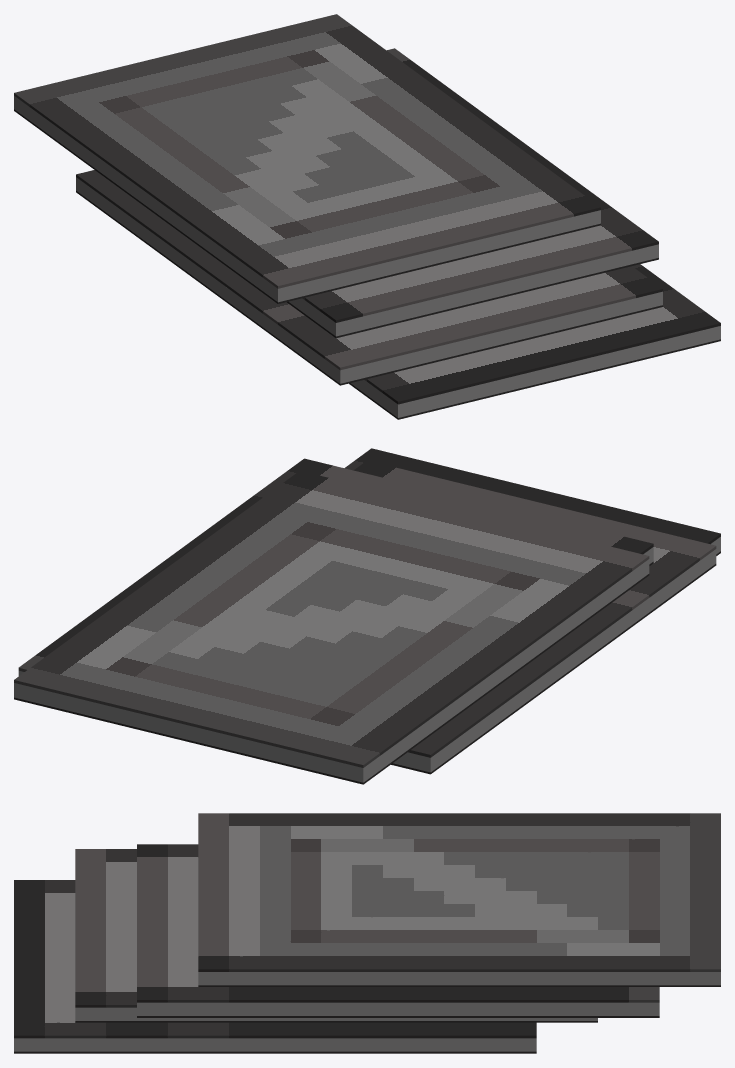
File: CMU3DCMSheetMetal.glb
The picture shows the model from 3 angles, top to bottom: view 1: azimuth 30°, elevation 25°; view 2: azimuth 150°, elevation 25°; view 3: azimuth 270°, elevation 25°; orthographic projection. The views are drawn at different scales.
Parts seen in each view (by area): view 1: sheet 4 original upper surface, sheet 2 original upper surface, sheet 3 original upper surface, sheet 1 original upper surface, sheet 4 solid material, sheet 2 solid material, sheet 3 solid material, sheet 1 solid material, sheet 2 dark lower edge, sheet 4 dark lower edge, sheet 1 dark lower edge, sheet 3 dark lower edge; view 2: sheet 4 original upper surface, sheet 2 original upper surface, sheet 4 solid material, sheet 3 original upper surface, sheet 1 original upper surface, sheet 2 solid material, sheet 4 dark lower edge, sheet 2 dark lower edge; view 3: sheet 4 original upper surface, sheet 1 original upper surface, sheet 3 original upper surface, sheet 2 original upper surface, sheet 1 solid material, sheet 3 solid material, sheet 4 solid material, sheet 2 solid material, sheet 1 dark lower edge, sheet 2 dark lower edge, sheet 3 dark lower edge, sheet 4 dark lower edge.
Boxes of the visible parts, x1,y1,x2,y2 form: sheet 4 original upper surface: (14, 14, 600, 288); sheet 2 original upper surface: (76, 170, 662, 370); sheet 3 original upper surface: (302, 48, 658, 322); sheet 1 original upper surface: (364, 264, 720, 404); sheet 4 solid material: (14, 96, 600, 302); sheet 2 solid material: (76, 177, 662, 383); sheet 3 solid material: (289, 244, 658, 336); sheet 1 solid material: (351, 326, 720, 417); sheet 2 dark lower edge: (76, 191, 662, 385); sheet 4 dark lower edge: (14, 109, 600, 303); sheet 1 dark lower edge: (349, 339, 720, 419); sheet 3 dark lower edge: (287, 258, 658, 338); sheet 4 original upper surface: (14, 471, 649, 767); sheet 2 original upper surface: (353, 460, 716, 757); sheet 4 solid material: (14, 559, 649, 782); sheet 3 original upper surface: (18, 458, 653, 671); sheet 1 original upper surface: (344, 448, 720, 544); sheet 2 solid material: (393, 549, 716, 772); sheet 4 dark lower edge: (14, 574, 649, 784); sheet 2 dark lower edge: (391, 564, 716, 774); sheet 4 original upper surface: (198, 813, 720, 971); sheet 1 original upper surface: (14, 880, 536, 1038); sheet 3 original upper surface: (137, 844, 659, 1002); sheet 2 original upper surface: (75, 849, 136, 1007); sheet 1 solid material: (14, 1038, 536, 1051); sheet 3 solid material: (137, 1002, 659, 1015); sheet 4 solid material: (198, 972, 720, 985); sheet 2 solid material: (75, 1007, 597, 1020); sheet 1 dark lower edge: (14, 1051, 536, 1053); sheet 2 dark lower edge: (75, 1021, 597, 1022); sheet 3 dark lower edge: (137, 1016, 659, 1017); sheet 4 dark lower edge: (198, 985, 720, 986).
Size of what is drawn, in the model's own units: 0.4062 by 0.08 by 0.7188.
6 materials, 4 textured.
